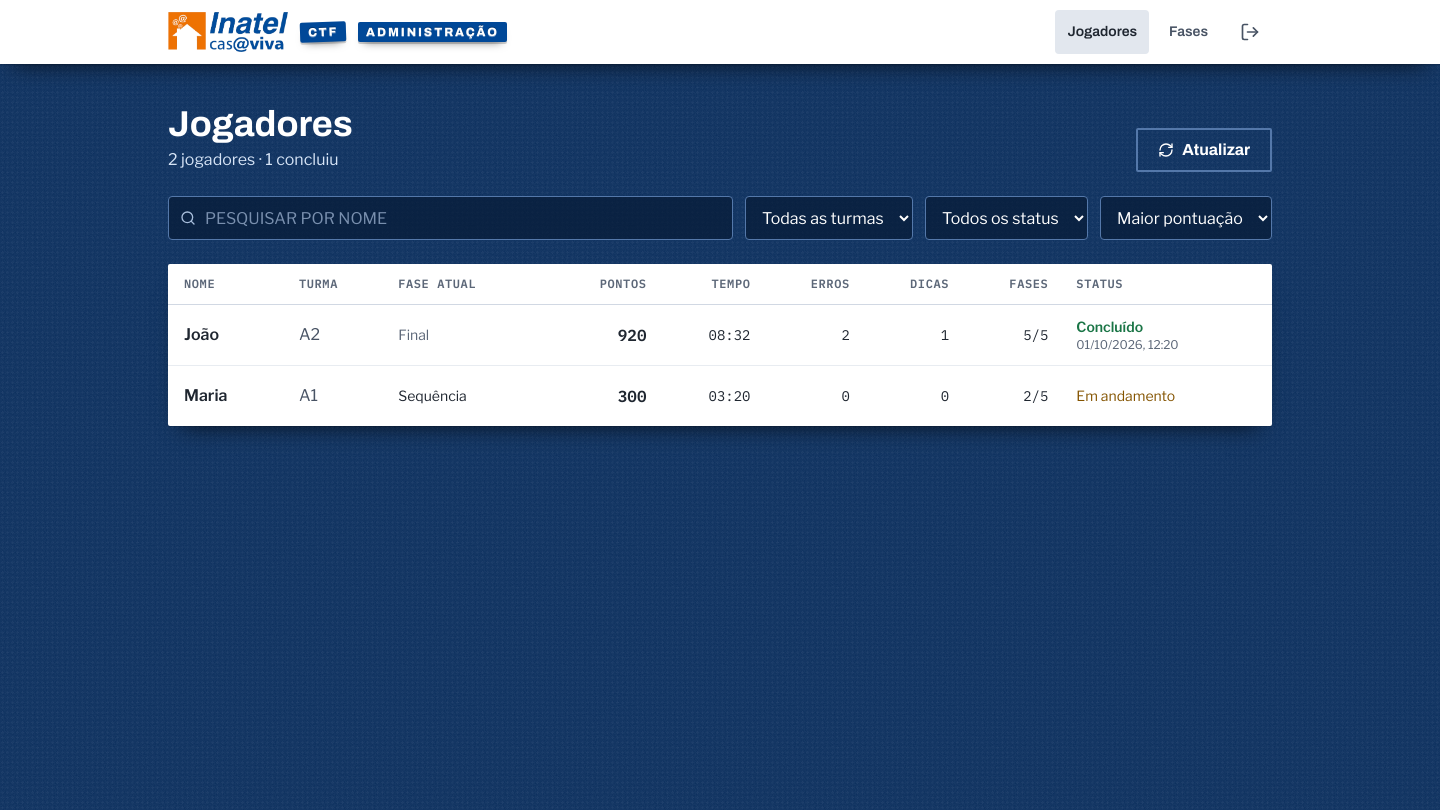
Scenario: admin area › lists players and filters by name, class and status
The image size is (1440, 810).
expect the button "João" is shown: met, box [184, 313, 271, 357]
expect the text "2 jogadores · 1 concluiu" is shown: met, box [168, 148, 353, 172]
Type "mar" into the search field labelled "PESQUISAR POR NOME" at (450, 218), box [168, 196, 733, 240]
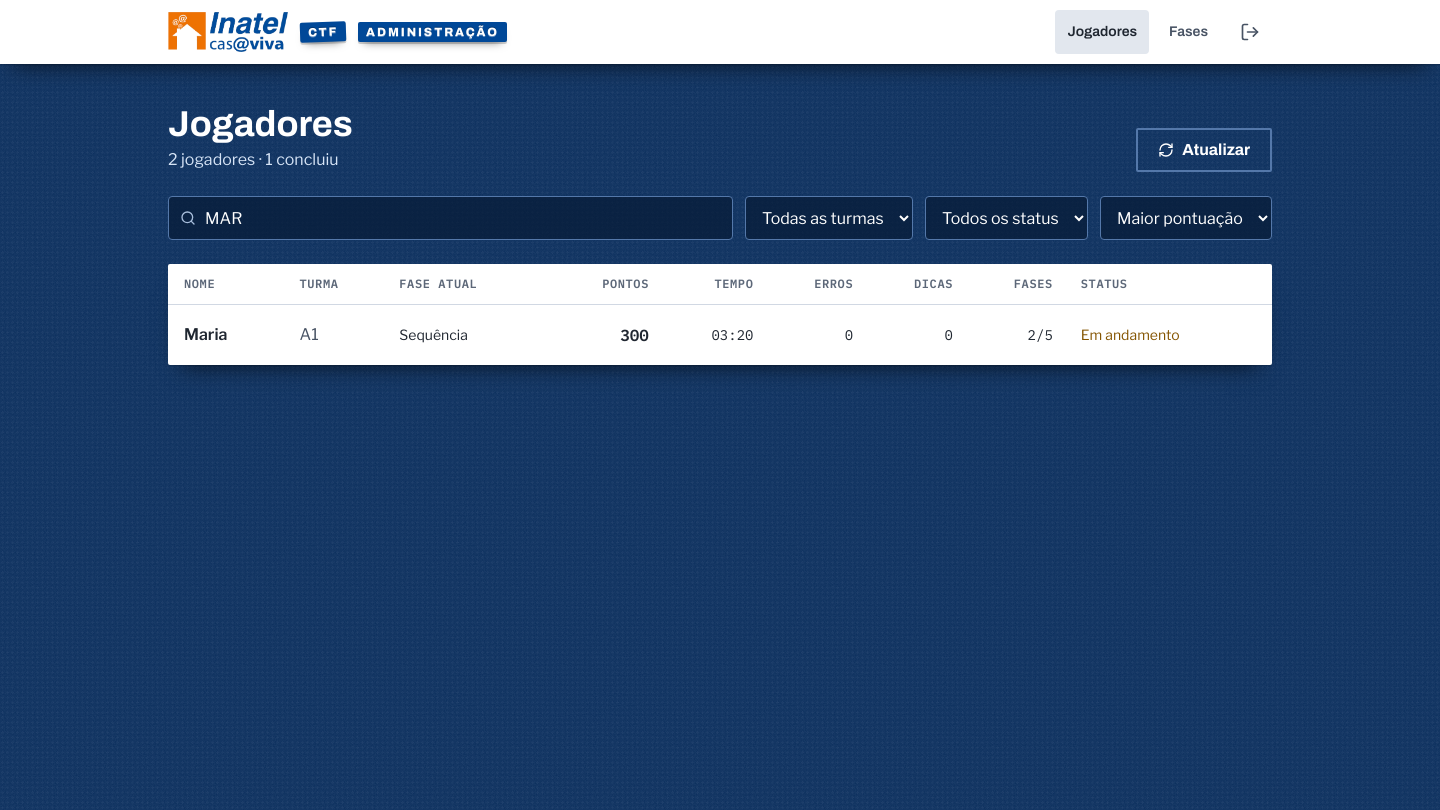
expect the button "Maria" is shown: met, box [184, 313, 272, 357]
expect the button "João" is gone: met
Clear the search field named "PESQUISAR POR NOME" at (450, 218), box [168, 196, 733, 240]
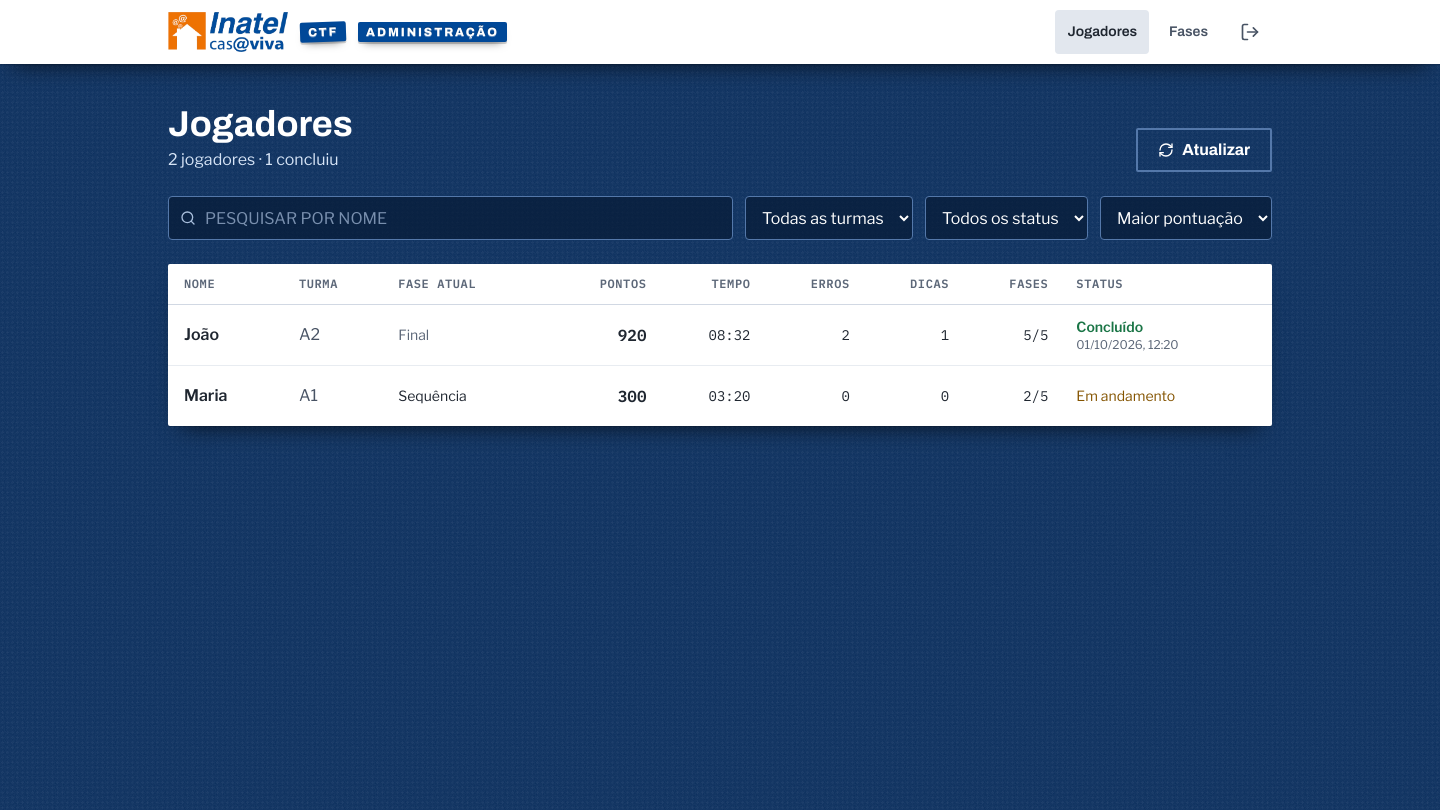
Select "A2" in the 1st dropdown named "Turma" at (829, 218), box [745, 196, 913, 240]
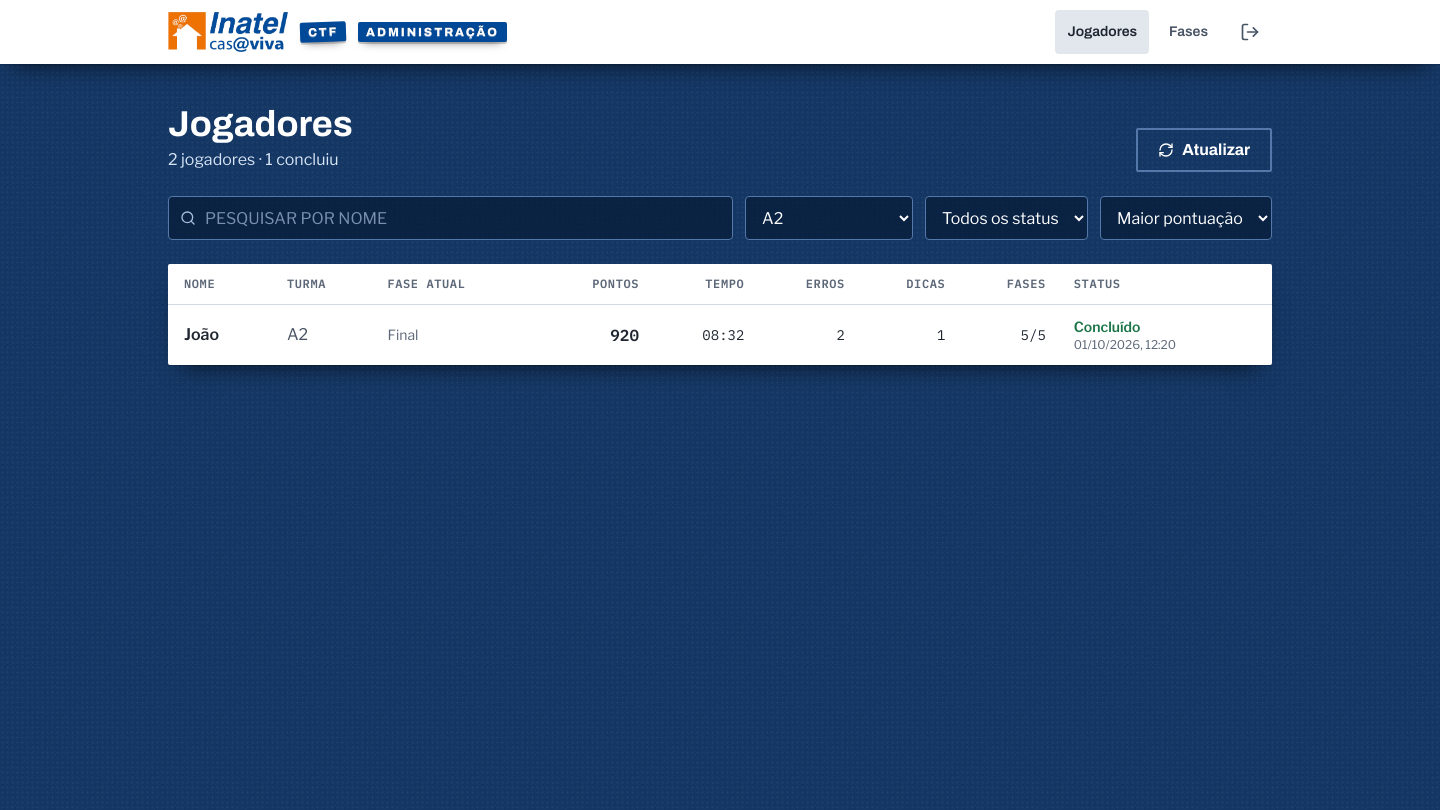
expect the button "Maria" is gone: met
Select "Todas as turmas" in the 1st dropdown named "Turma" at (829, 218), box [745, 196, 913, 240]
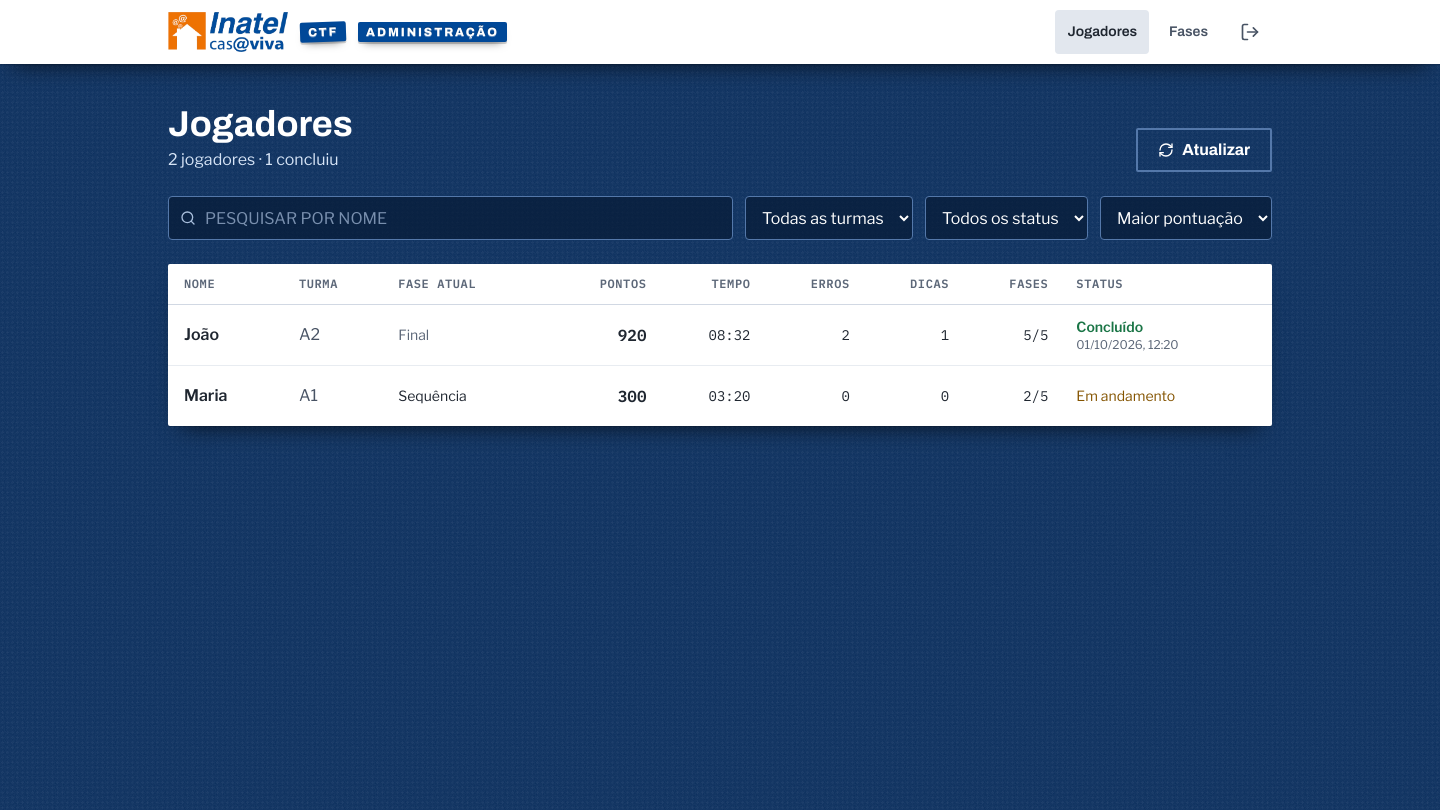
Select "Em andamento" in the 2nd dropdown named "Status" at (1006, 218), box [925, 196, 1088, 240]
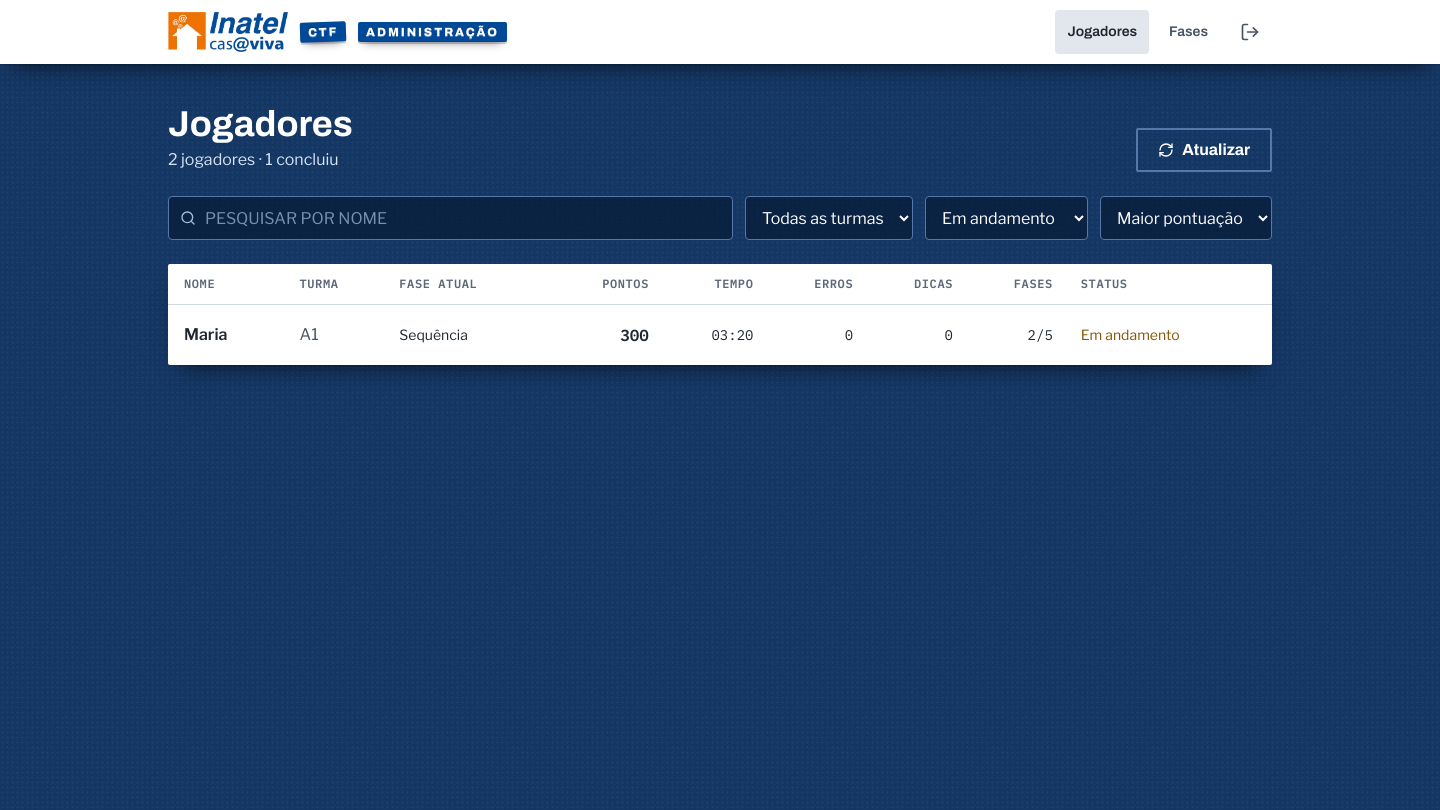
expect the button "Maria" is shown: met, box [184, 313, 272, 357]
expect the button "João" is gone: met
